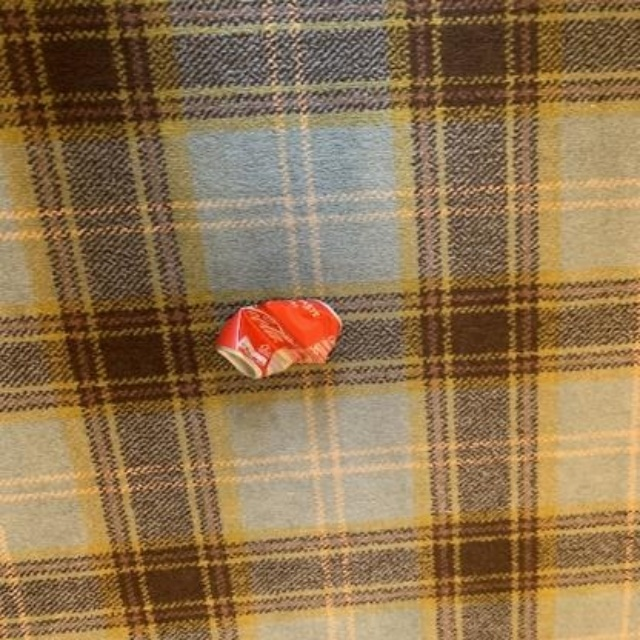trash: (215, 300, 340, 377)
